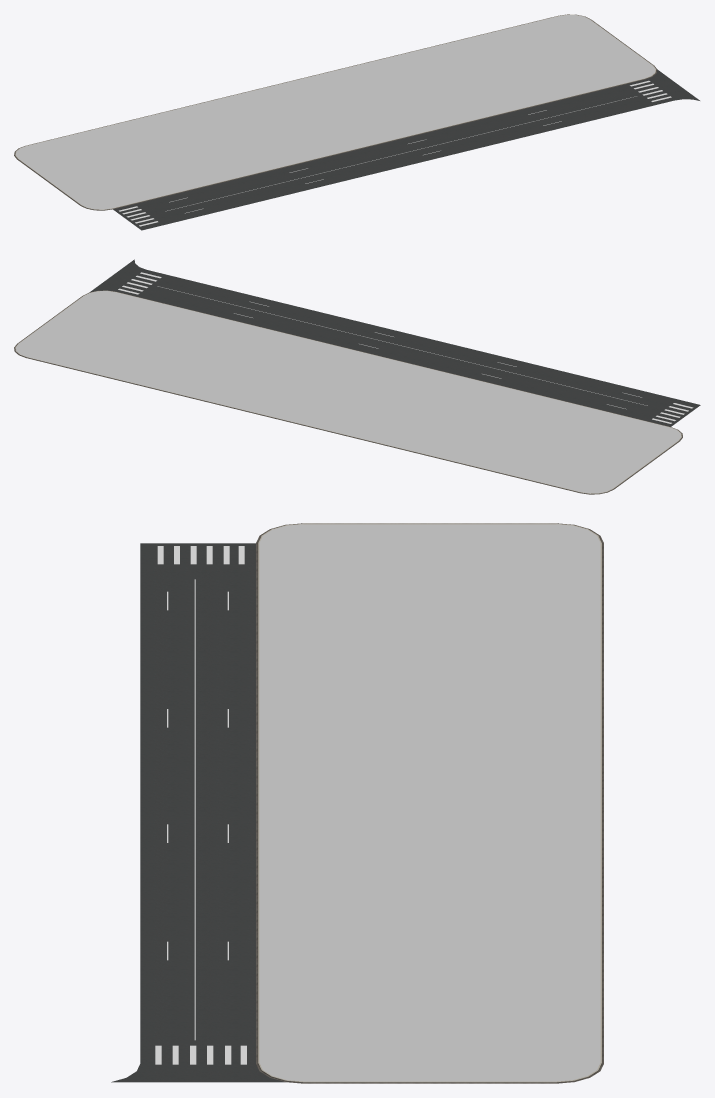
Rendered from New_Terrain_Area_20.fbx.
The picture shows the model from 3 angles, top to bottom: view 1: azimuth 30°, elevation 25°; view 2: azimuth 150°, elevation 25°; view 3: azimuth 270°, elevation 25°; orthographic projection. The views are drawn at different scales.
Visible parts, largest first — view 1: Area_20, Road_28.001, Road_Alpha_68; view 2: Area_20, Road_28.001, Road_Alpha_68; view 3: Area_20, Road_28.001, Road_Alpha_68.
Boxes of the visible parts, x1=… form: Area_20: x1=14, y1=14, x2=657, y2=210; Road_28.001: x1=113, y1=69, x2=699, y2=230; Road_Alpha_68: x1=119, y1=80, x2=671, y2=226; Area_20: x1=14, y1=290, x2=682, y2=494; Road_28.001: x1=89, y1=259, x2=700, y2=426; Road_Alpha_68: x1=118, y1=272, x2=693, y2=423; Area_20: x1=256, y1=523, x2=603, y2=1083; Road_28.001: x1=111, y1=543, x2=284, y2=1082; Road_Alpha_68: x1=155, y1=546, x2=246, y2=1064.
Size of the model in its own units: 13999 by 7.15 by 5207.
